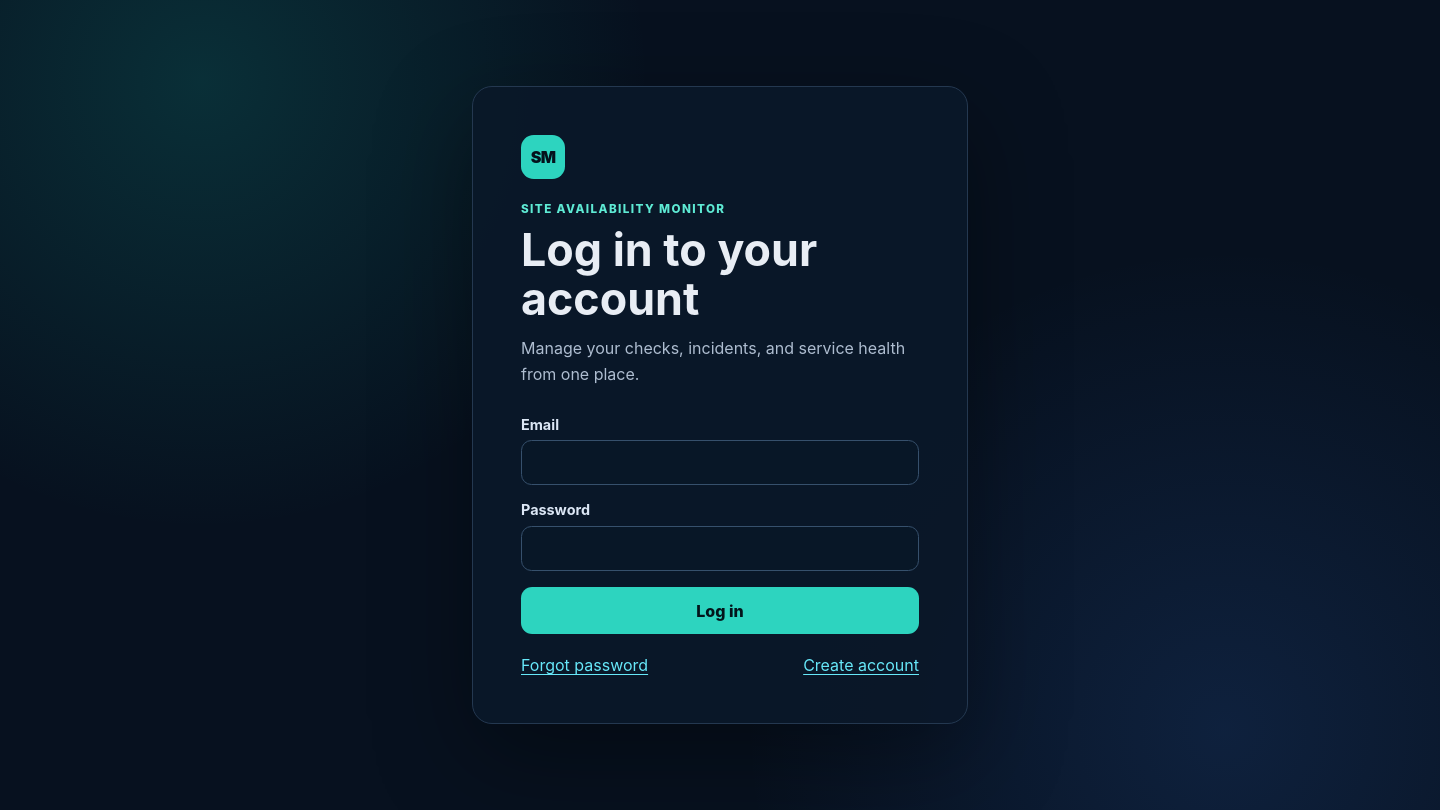
Test case: App authentication shell › renders the login and registration controls for an anonymous user
Expected: the heading "Log in to your account" is shown, [521,223,817,326]
What coordinates should you click on to do the following:
click the button "Create account"
I would click on:
 (861, 665)
Its box is [803,655,919,675].
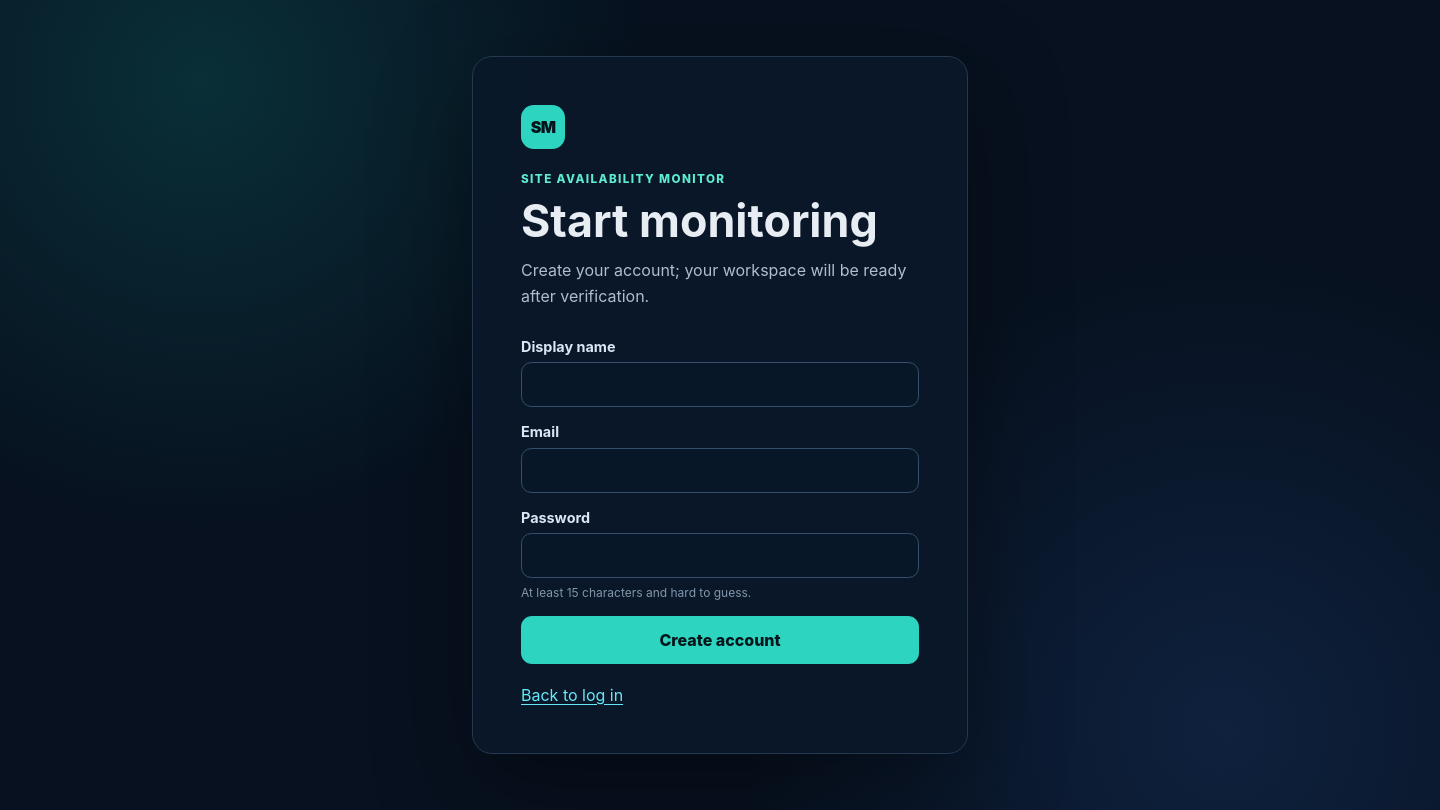
Expected: the heading "Start monitoring" is shown, [521,197,919,245]
Expected: the field labelled "Display name" is shown, [521,362,919,407]
